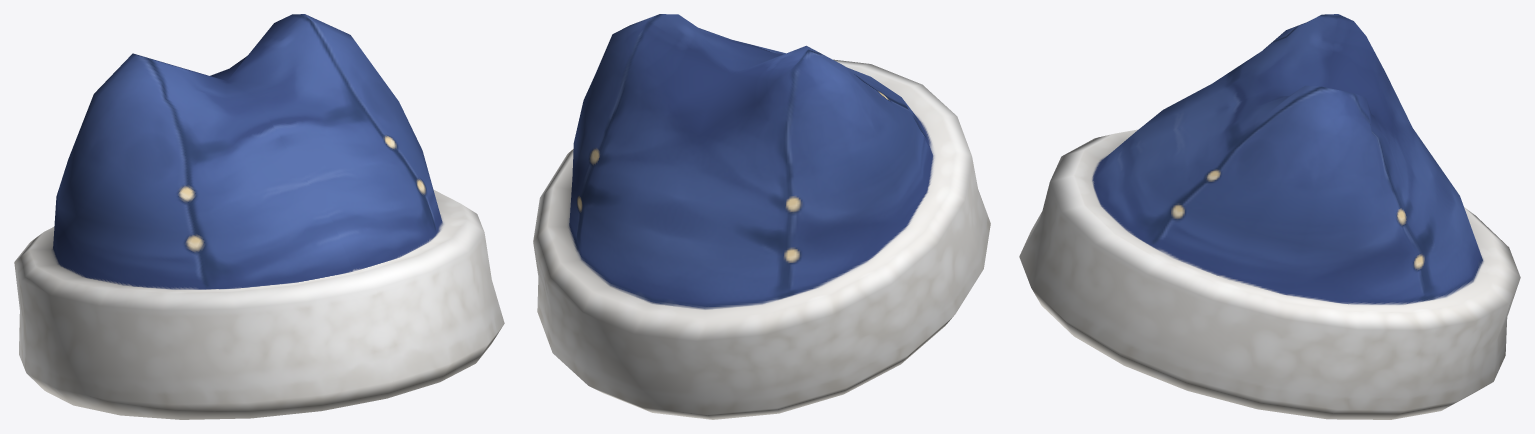
The model's file is Tsuyu_Hat.fbx.
3 views of the same model, side by side, from view 1: azimuth 30°, elevation 25°; view 2: azimuth 150°, elevation 25°; view 3: azimuth 270°, elevation 25° (orthographic). The views are drawn at different scales.
Visible parts, largest first — view 1: Tsuyu_hat; view 2: Tsuyu_hat; view 3: Tsuyu_hat.
Part boxes in pixels (<box>): Tsuyu_hat: <box>14,14,504,419</box>; Tsuyu_hat: <box>533,14,990,419</box>; Tsuyu_hat: <box>1019,14,1520,419</box>.
Bounding box in the file's own units: 1.96 × 1.57 × 2.24.
